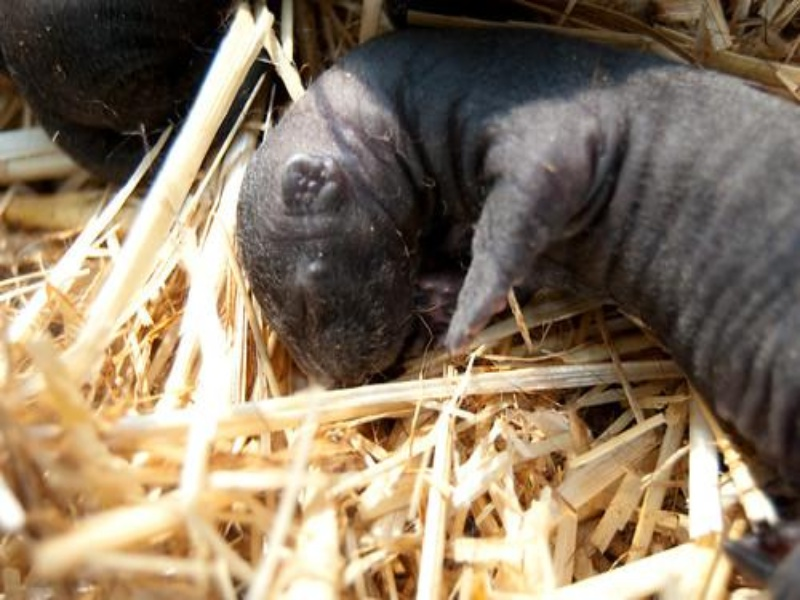minkish: (228, 18, 799, 499)
